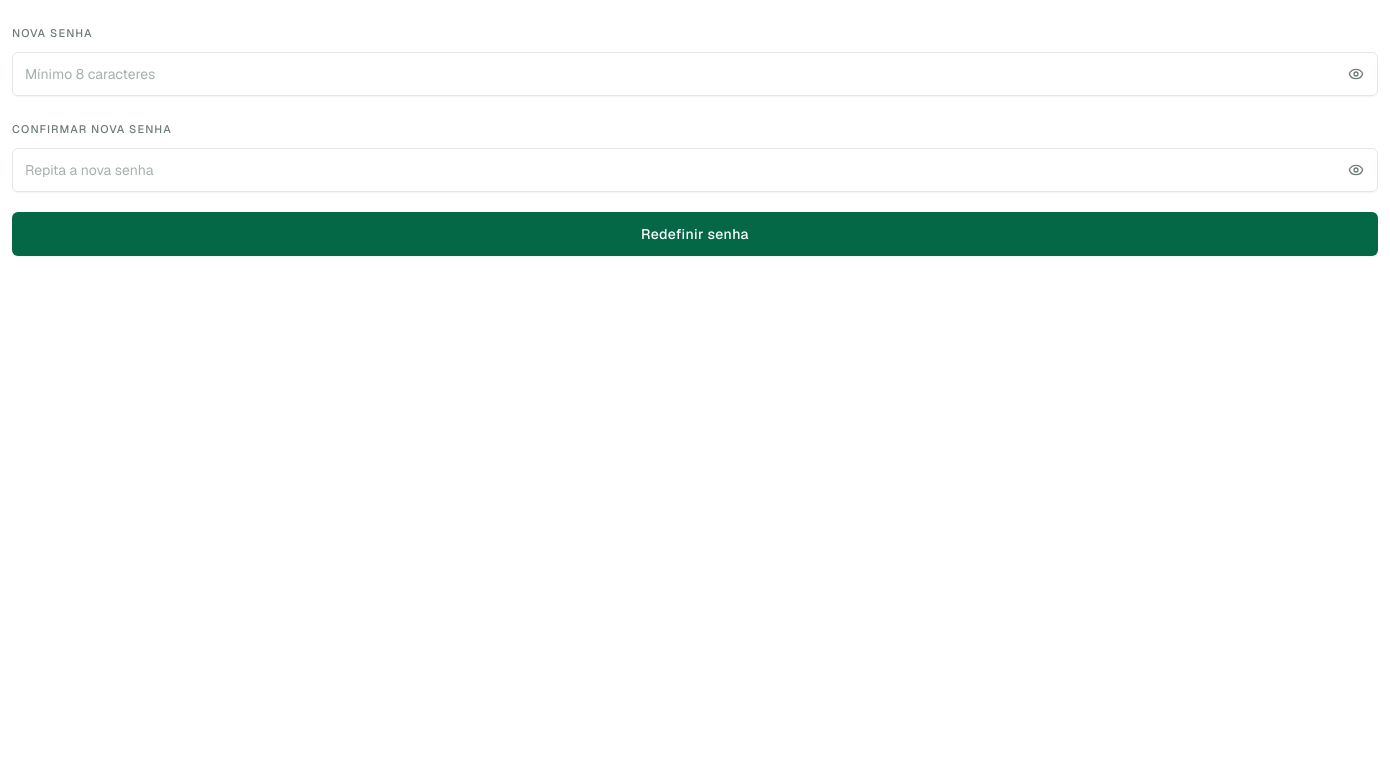
Test: <PasswordResetConfirmForm /> › em INVALID_RESET_TOKEN mostra mensagem genérica e não redireciona
Type "novasenha123" into the password field labelled "Nova senha" at (695, 74), box [12,52,1378,96]
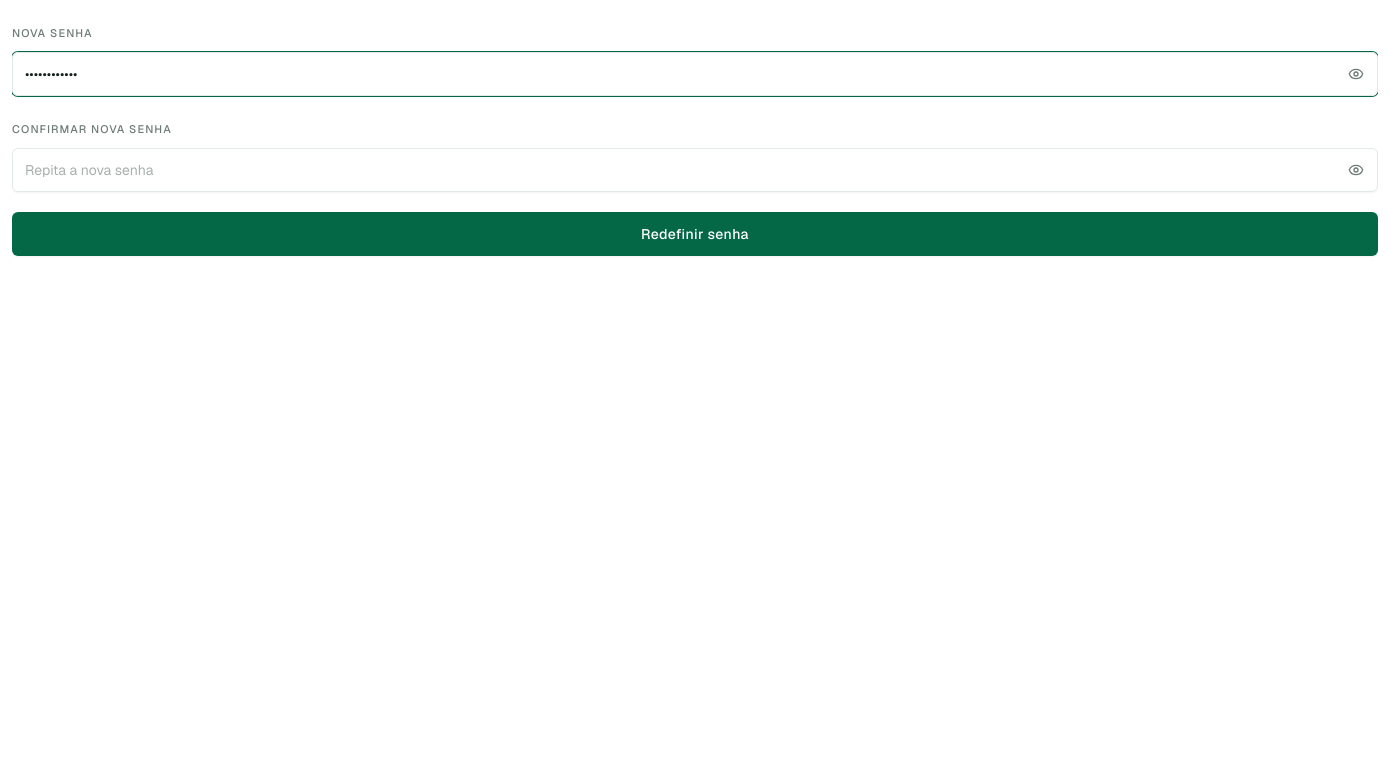
Type "novasenha123" into the password field labelled "Confirmar nova senha" at (695, 170), box [12,148,1378,192]
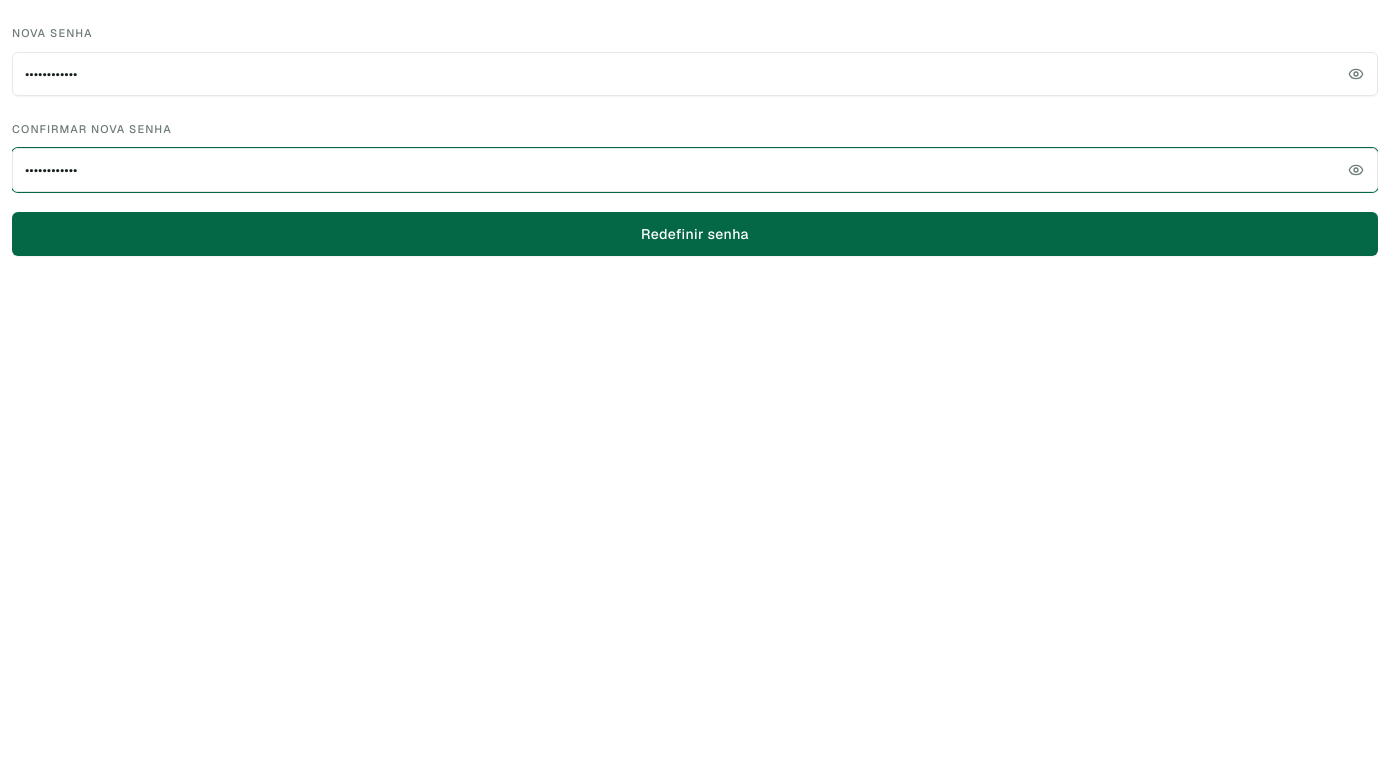
Click the button "Redefinir senha" at (695, 234), box [12,212,1378,256]
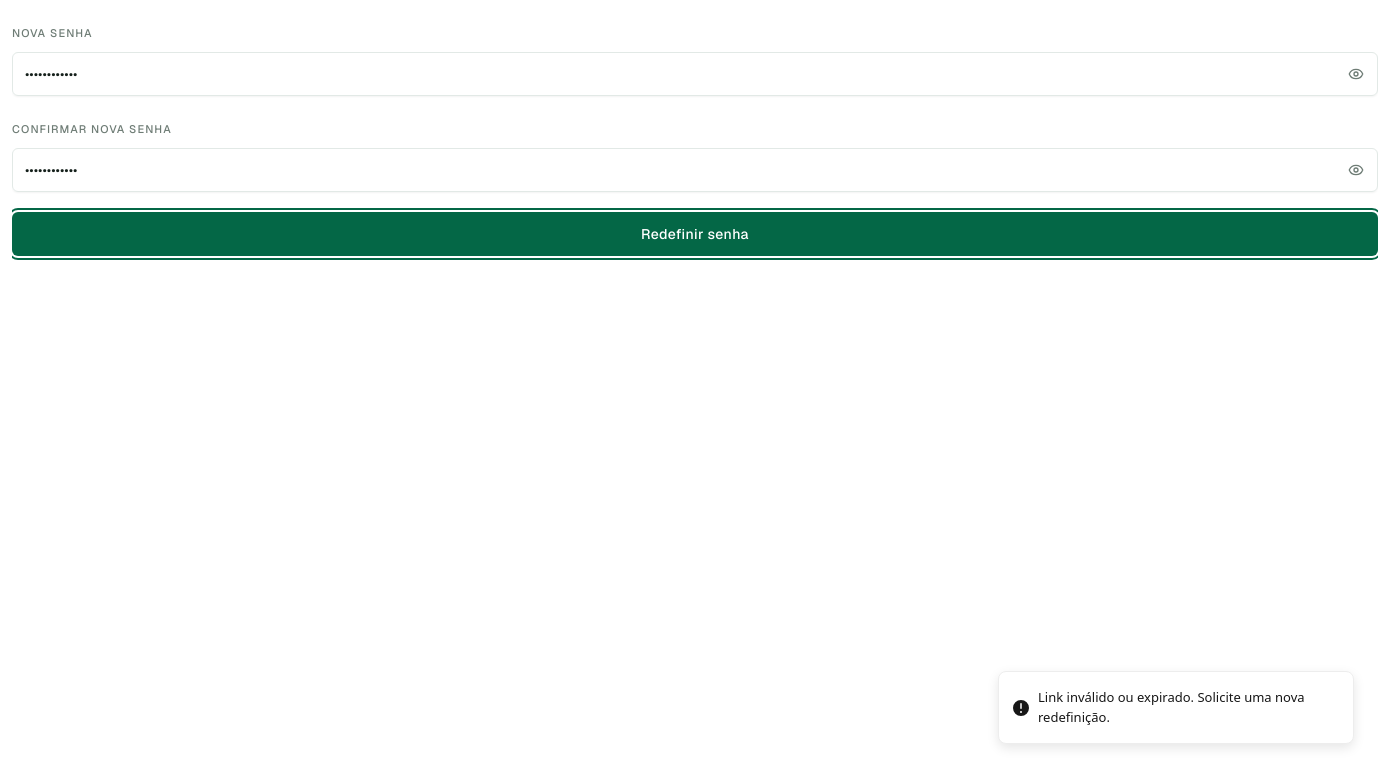
Result: the text "Link inválido ou expirado. Solicite uma nova redefinição." is shown at [1038,688,1337,727]
